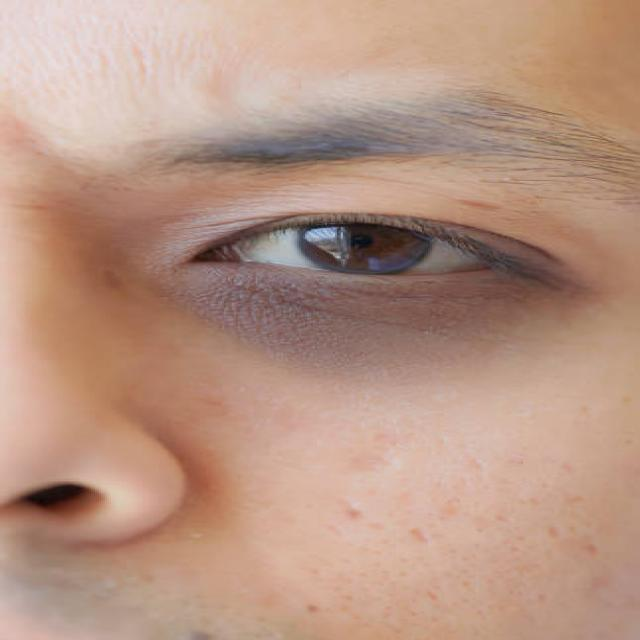high: (162, 286, 564, 364)
